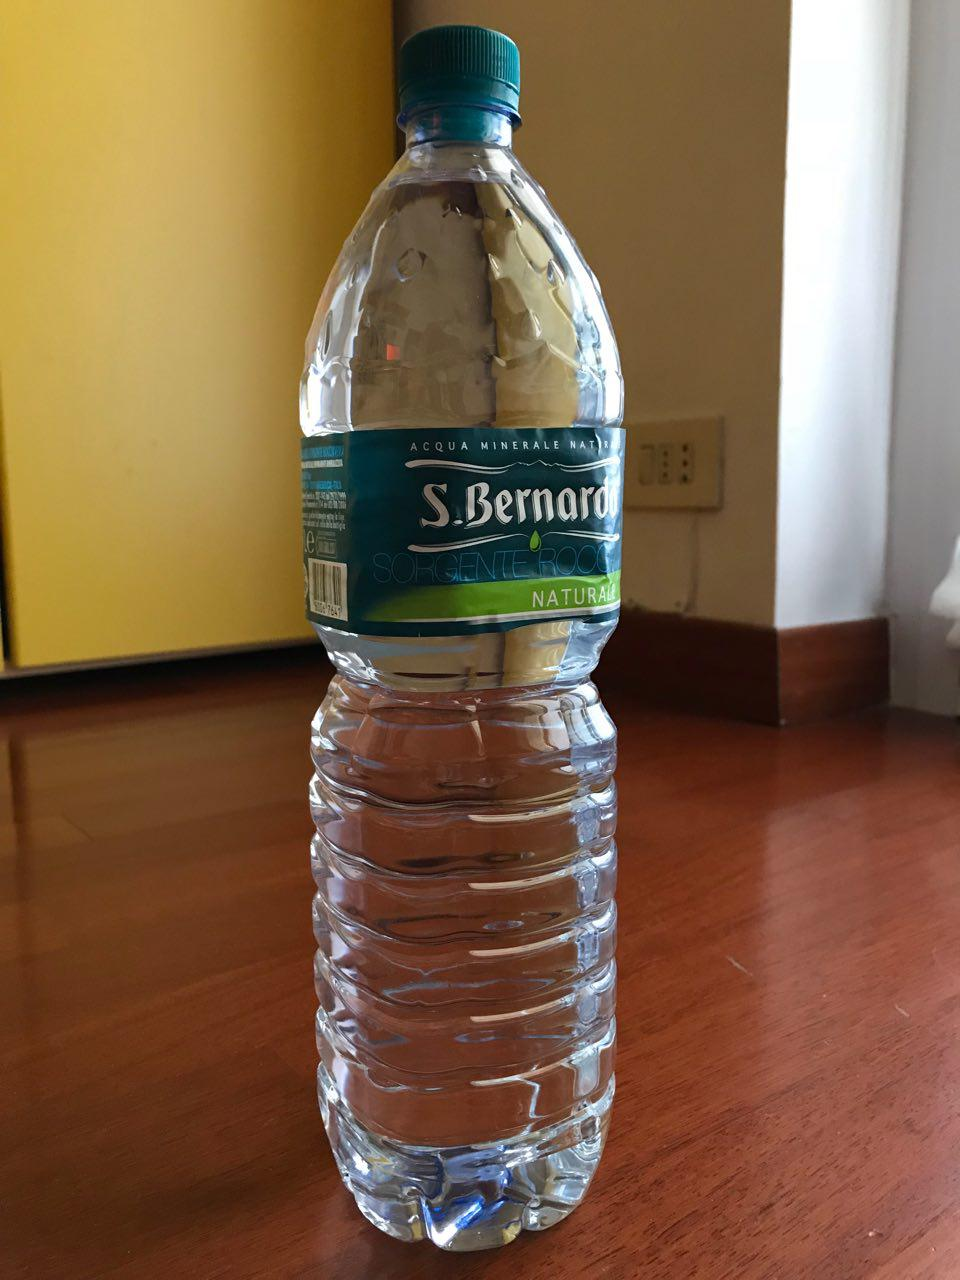san_bernardo: (294, 23, 627, 1254)
